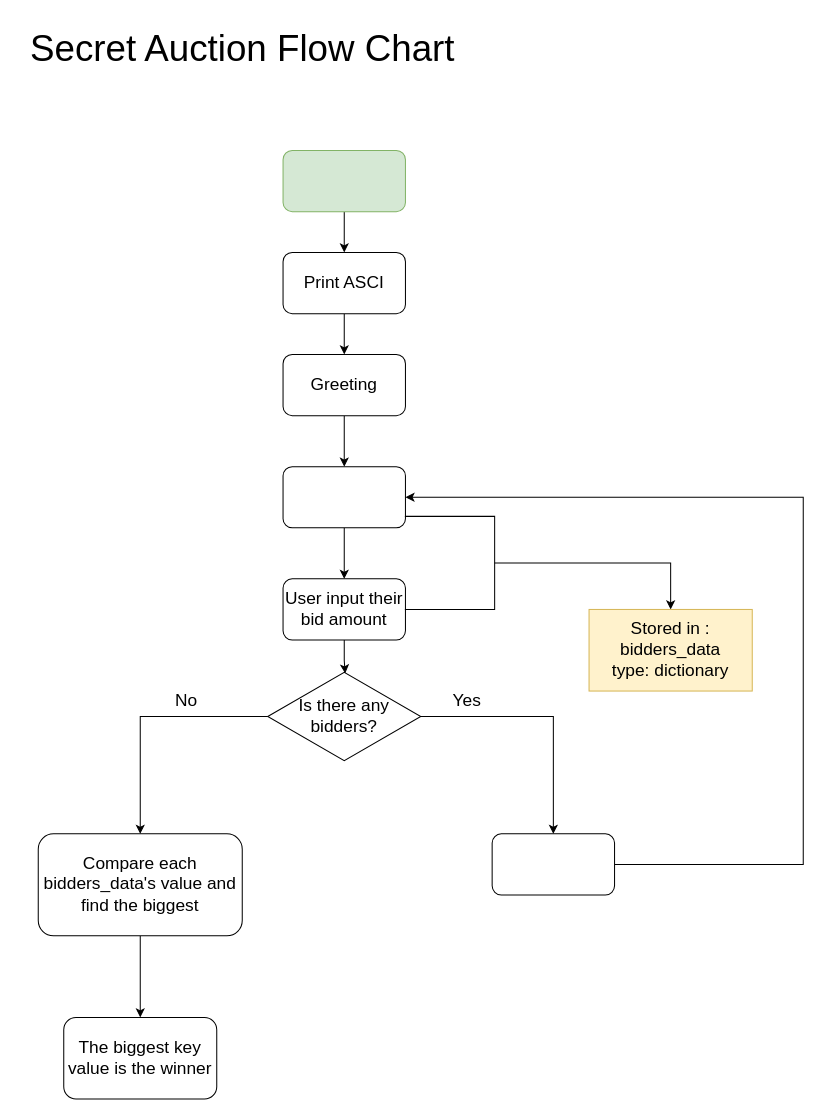
Some shapes in this 829 by 1117 pixel diagram are drawn without their labels. Here are the shapes that lost their labels. From the top down, the centre of each, then its label:
At point (343, 180): "Start".
At point (343, 497): "User input their name".
At point (553, 864): "Clear the screen".
